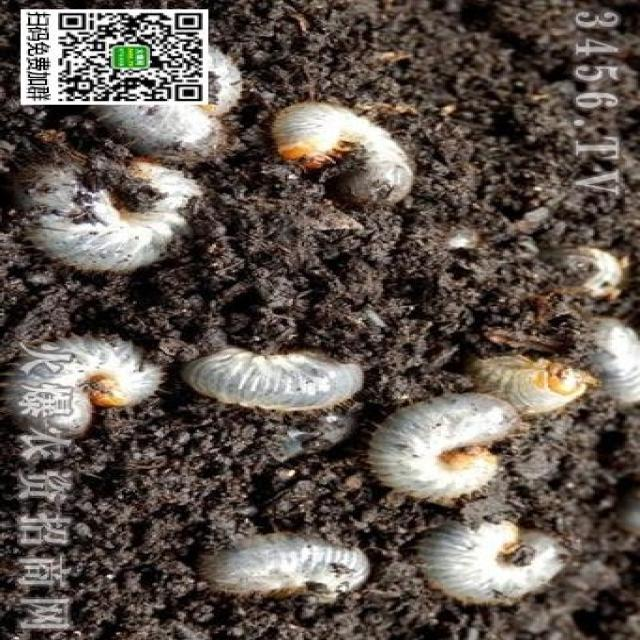grub: (23, 161, 205, 282), (365, 387, 530, 499), (17, 330, 161, 440), (260, 106, 410, 210), (414, 521, 575, 617), (182, 338, 364, 420), (205, 531, 376, 604)
